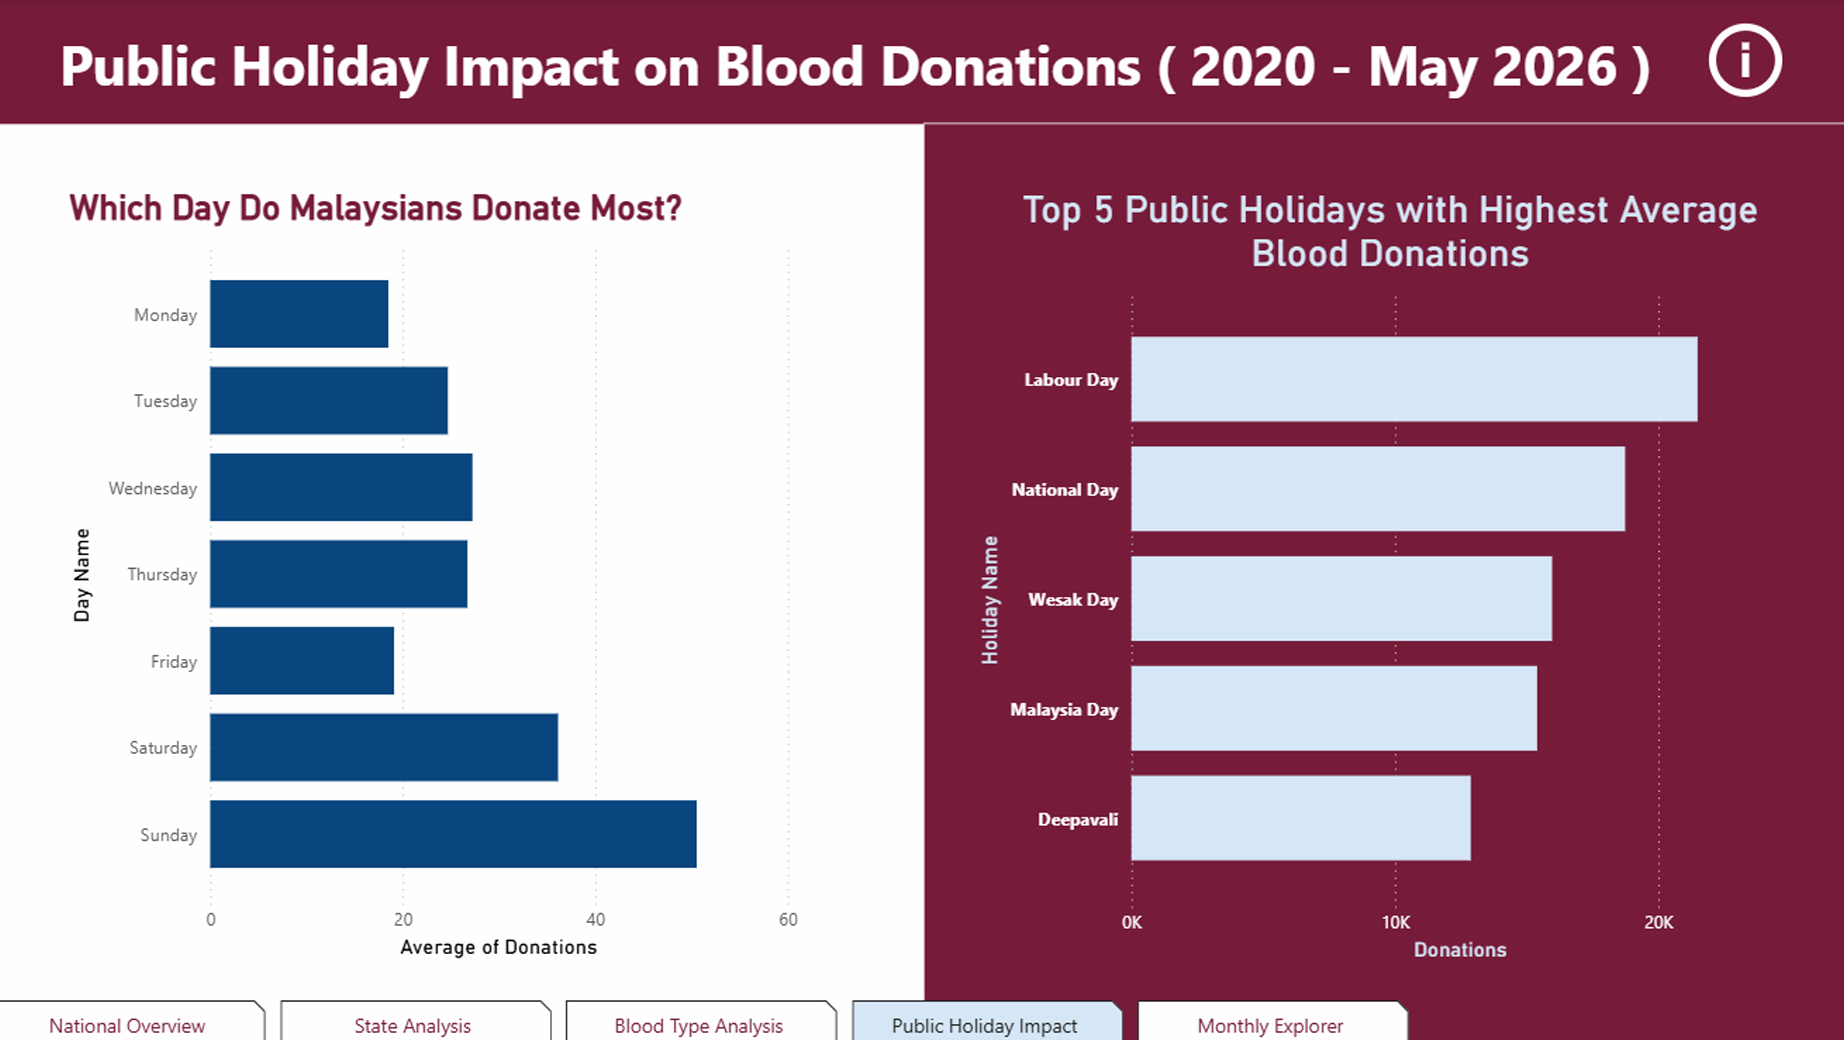

The page's visual inventory and layout, read from the dashboard file:
{"tool":"powerbi","page":{"name":"Public Holiday Impact","canvas":[1280,720],"ordinal":3},"visuals":[{"type":"textbox","box":[0,0,1281.7,86.7],"z":0},{"type":"textbox","box":[640,86,640,634],"z":1000},{"type":"clusteredBarChart","title":"Top 5 Public Holidays with Highest Average Blood Donations","fields":{"Category":["blood_donations_final.Holiday Name"],"Y":["Sum(blood_donations_final.Donations)"]},"box":[672,130,580,538],"z":2000},{"type":"clusteredBarChart","title":"Which Day Do Malaysians Donate Most?","fields":{"Category":["blood_donations_final.Day Name"],"Y":["Avg(blood_donations_final.Donations)"]},"box":[46,130,512,536],"z":3000},{"type":"actionButton","box":[1176,12,66,62],"z":4000},{"type":"pageNavigator","box":[0,690,978,30],"z":5000}]}

Visuals, with their boxes in screenshot pixels (x1, y1, x2, y2), scaled from the page's 1280x720 canvas onto the 1844x1040 screenshot:
textbox: bbox=(0, 0, 1843, 125)
textbox: bbox=(922, 124, 1843, 1039)
"Top 5 Public Holidays with Highest Average Blood Donations" clusteredBarChart: bbox=(968, 188, 1804, 965)
"Which Day Do Malaysians Donate Most?" clusteredBarChart: bbox=(66, 188, 804, 962)
actionButton: bbox=(1694, 17, 1789, 107)
pageNavigator: bbox=(0, 997, 1409, 1039)
